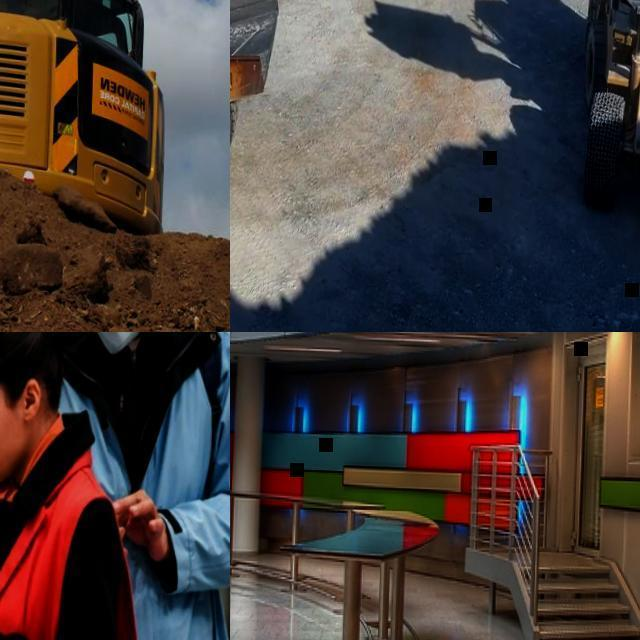no_helmet: (0, 332, 70, 371)
